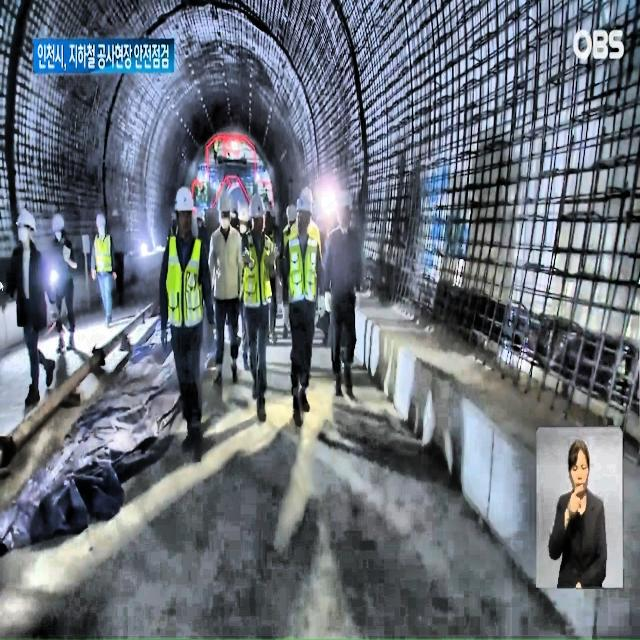safety_helmet: (172, 186, 195, 216), (16, 206, 38, 235), (295, 189, 314, 215), (336, 191, 356, 214), (250, 195, 268, 218), (217, 192, 233, 214), (52, 213, 67, 233), (237, 204, 251, 224), (287, 204, 299, 224), (95, 212, 108, 229)
safety_jacket: (166, 236, 203, 332), (287, 229, 321, 308), (244, 235, 274, 309), (94, 238, 114, 278)
